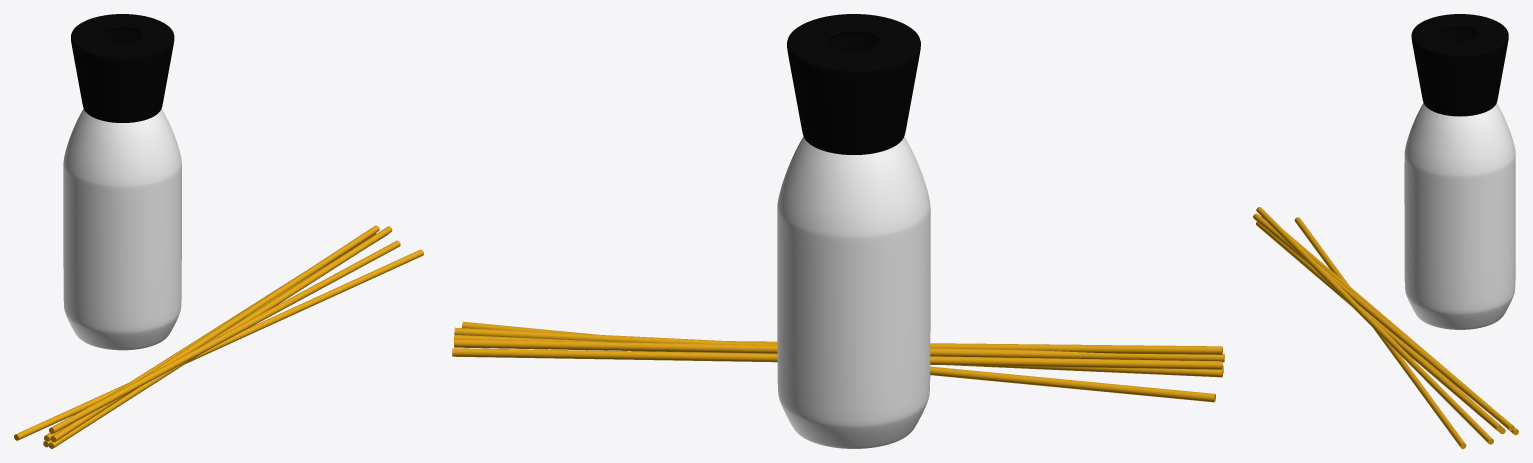
Rendered from profumatore_piccolo_no_mod - Copia.glb.
3 views of the same model, side by side, from view 1: azimuth 30°, elevation 25°; view 2: azimuth 150°, elevation 25°; view 3: azimuth 270°, elevation 25° (orthographic). The views are drawn at different scales.
Parts seen in each view (by area): view 1: Profumatore, Bastoncini, Tappo; view 2: Profumatore, Bastoncini, Tappo; view 3: Profumatore, Tappo, Bastoncini.
Boxes of the visible parts, x1=… form: Profumatore: x1=63, y1=109, x2=181, y2=350; Bastoncini: x1=14, y1=225, x2=423, y2=448; Tappo: x1=71, y1=14, x2=174, y2=122; Profumatore: x1=777, y1=136, x2=930, y2=448; Bastoncini: x1=452, y1=321, x2=1224, y2=402; Tappo: x1=787, y1=14, x2=920, y2=154; Profumatore: x1=1404, y1=103, x2=1515, y2=329; Tappo: x1=1411, y1=14, x2=1508, y2=116; Bastoncini: x1=1253, y1=207, x2=1518, y2=448.
Size of what is drawn, in the model's own units: 21.57 by 12.3 by 10.68.
